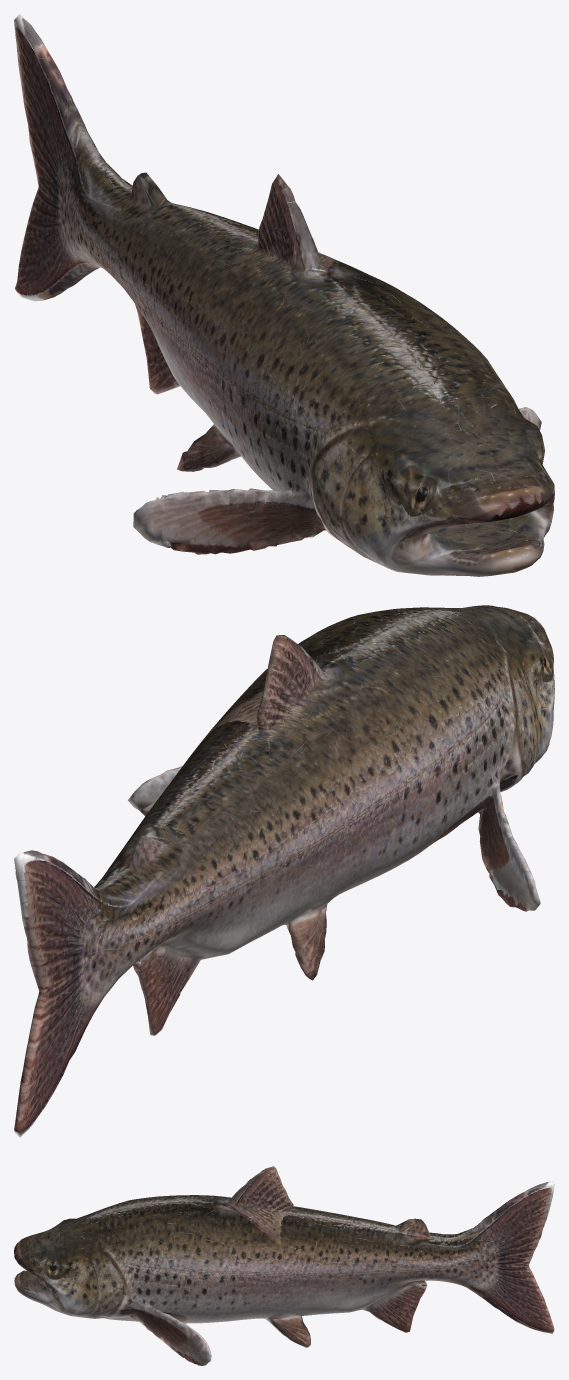
The model's file is fish_taimen.glb.
3 renders of one model, top to bottom at view 1: azimuth 30°, elevation 25°; view 2: azimuth 150°, elevation 25°; view 3: azimuth 270°, elevation 25°, orthographic. The views are drawn at different scales.
Visible parts, largest first — view 1: geometry_0; view 2: geometry_0; view 3: geometry_0.
Part boxes in pixels (x1,y1,x2,y2): geometry_0: (14,14,554,576); geometry_0: (14,605,554,1137); geometry_0: (14,1166,554,1365).
Size of the model in its own units: 0.9276 by 0.6734 by 1.96.
Materials: 1 (1 with a texture image).
